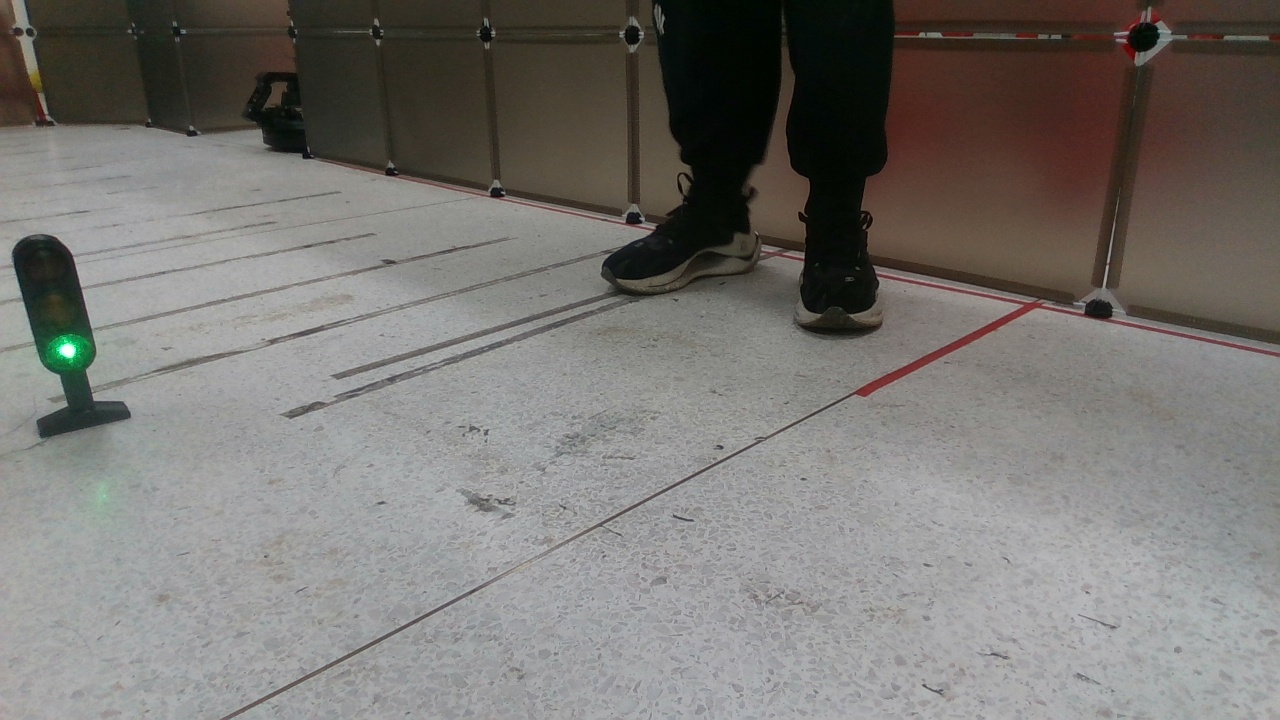Green traffic light: (10, 229, 134, 441)
